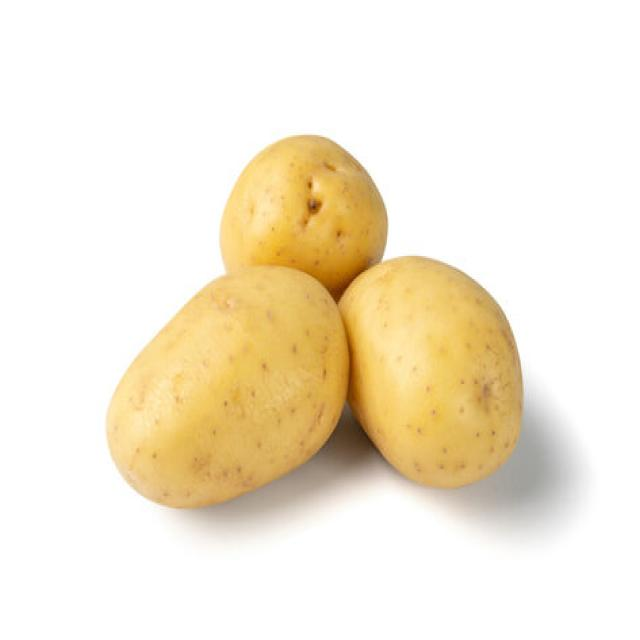Potato: (104, 263, 349, 509), (337, 252, 524, 489), (218, 131, 388, 297)
